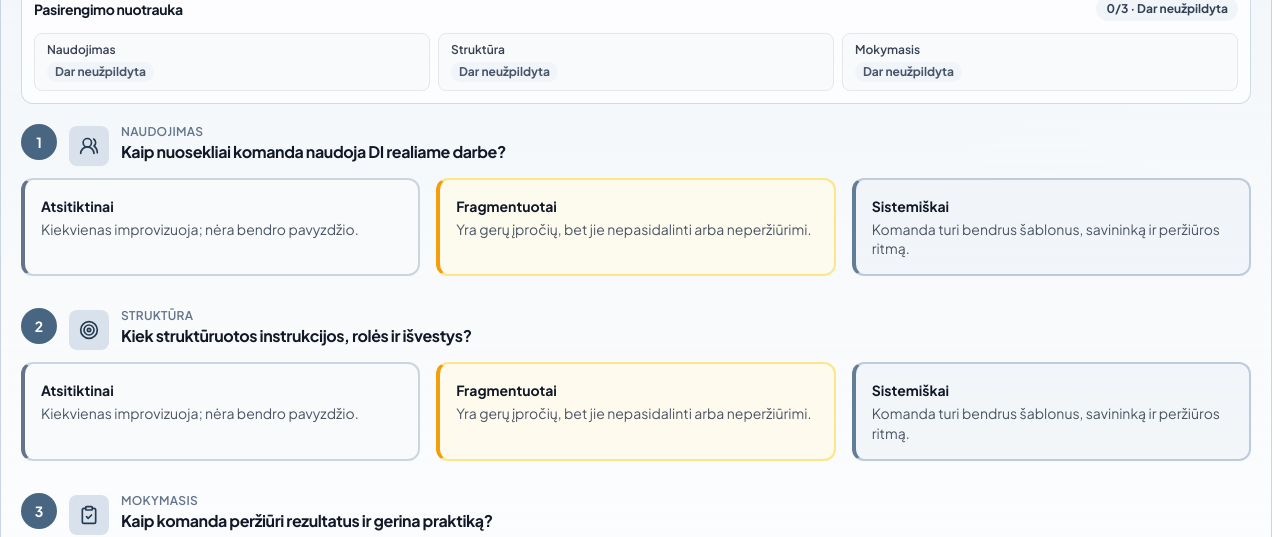
Test case: M10TeamReadinessLabBlock › handles tied weak dimensions without false precision
Step 1. Click the 1st radio button labelled "Atsitiktinai Kiekvienas improvizuoja; nėra bendro pavyzdžio." → (221, 227), box x1=21 y1=178 x2=420 y2=276
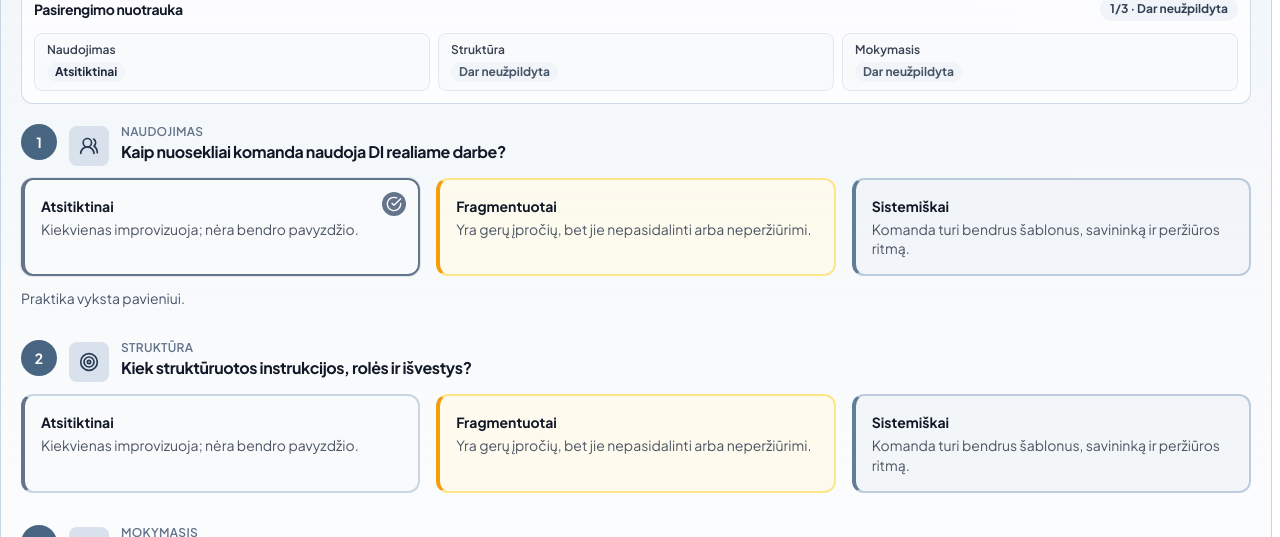
Step 2. Click the 2nd radio button labelled "Atsitiktinai Kiekvienas improvizuoja; nėra bendro pavyzdžio." → (221, 444), box x1=21 y1=394 x2=420 y2=493
(page scrolled)
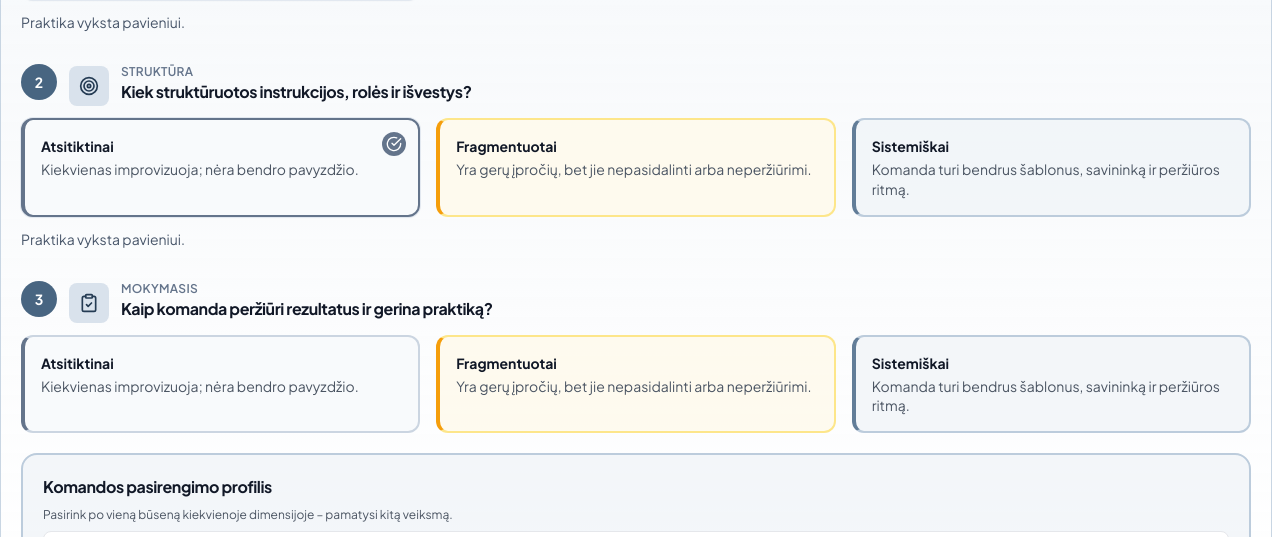
Step 3. Click the 3rd radio button labelled "Sistemiškai" → (1051, 384), box x1=852 y1=335 x2=1251 y2=433
(page scrolled)
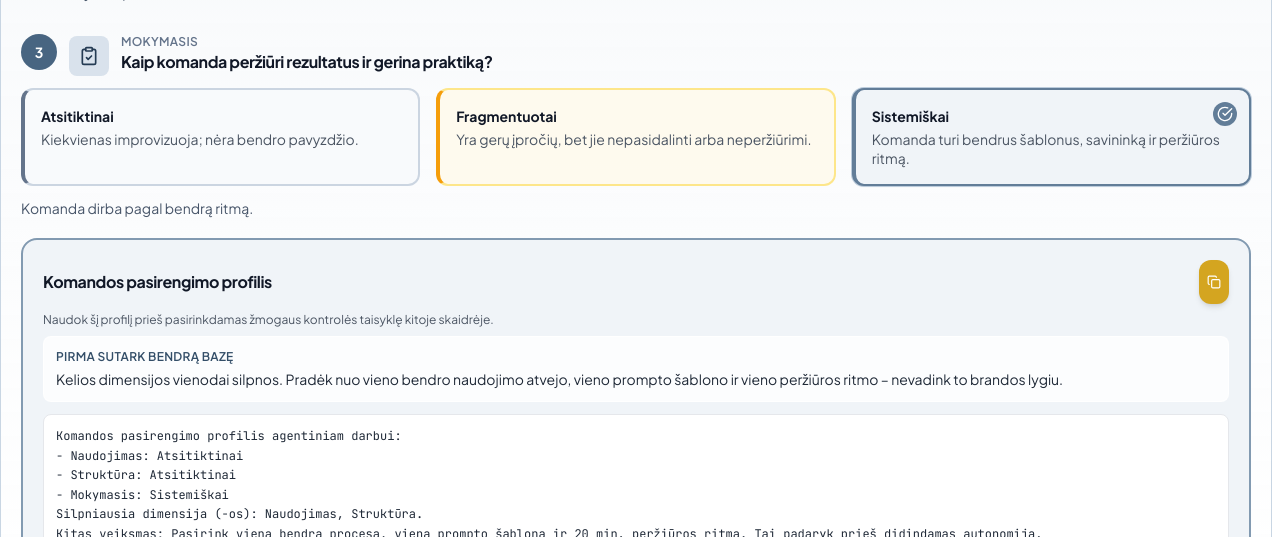
Check: the text "Pirma sutark bendrą bazę" is shown, box x1=56 y1=349 x2=234 y2=364
Check: the text "vieno bendro naudojimo atvejo" is shown, box x1=56 y1=370 x2=1063 y2=388
